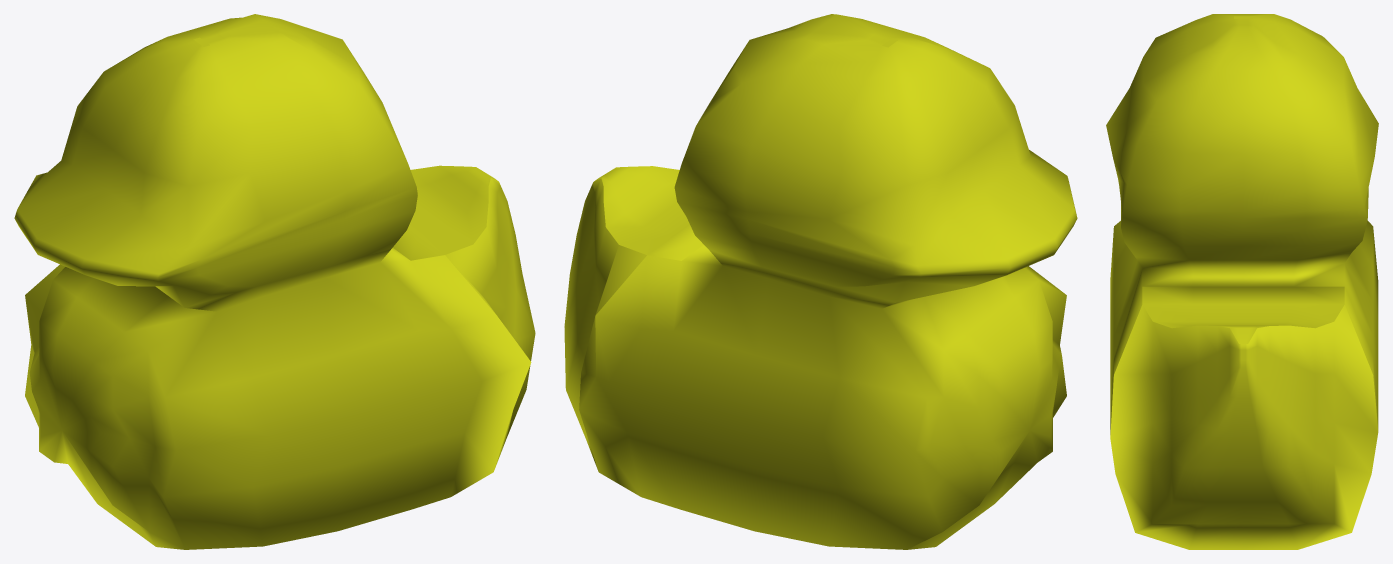
The model's file is Duck.fbx.
3 views of the same model, side by side, from view 1: azimuth 30°, elevation 25°; view 2: azimuth 150°, elevation 25°; view 3: azimuth 270°, elevation 25° (orthographic). The views are drawn at different scales.
Parts seen in each view (by area): view 1: DuckBody; view 2: DuckBody; view 3: DuckBody.
Part boxes in pixels (bbox=[...]): DuckBody: bbox=[14, 14, 535, 549]; DuckBody: bbox=[564, 14, 1077, 549]; DuckBody: bbox=[1106, 14, 1378, 549].
Bounding box in the file's own units: 53.12 × 51.91 × 28.63.
